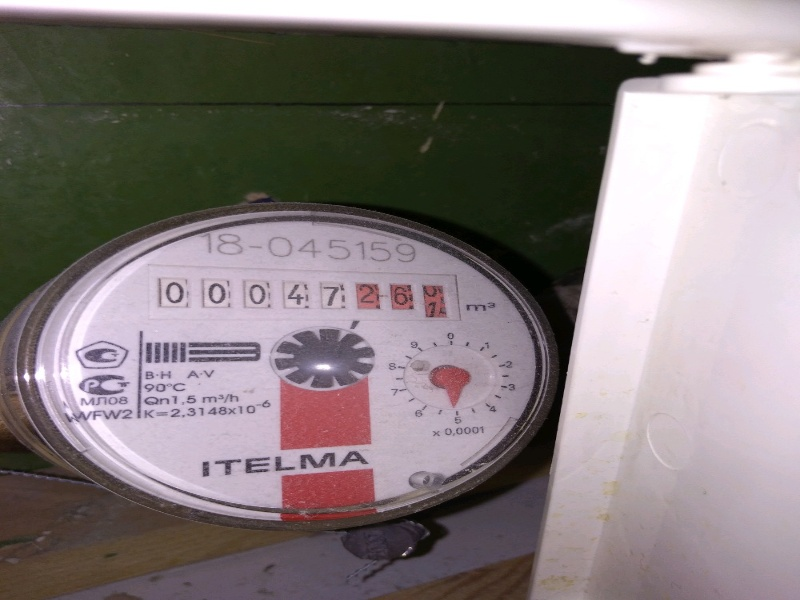meter: (136, 271, 456, 326)
